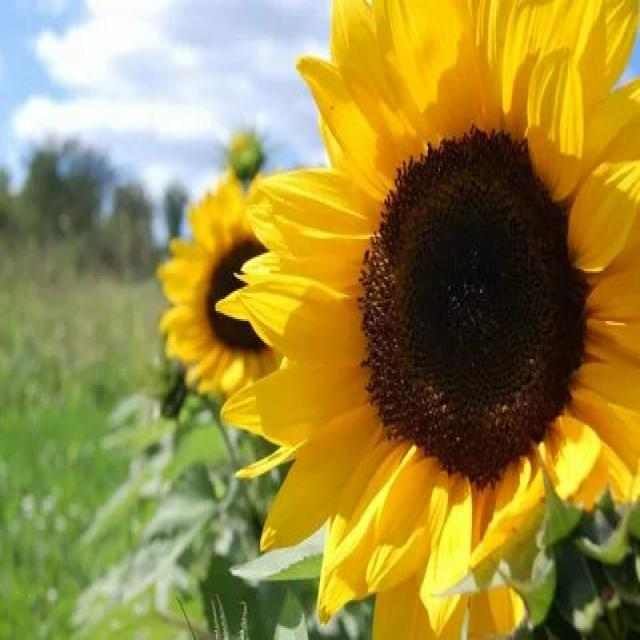sunflower: (225, 2, 640, 640), (159, 174, 313, 420)
